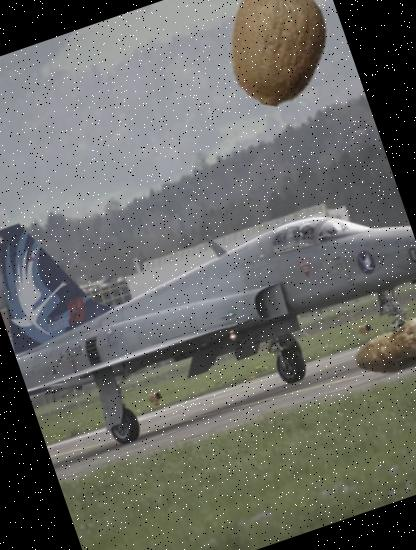Ginger: (341, 293, 416, 401)
Kiwi: (199, 0, 357, 122)
